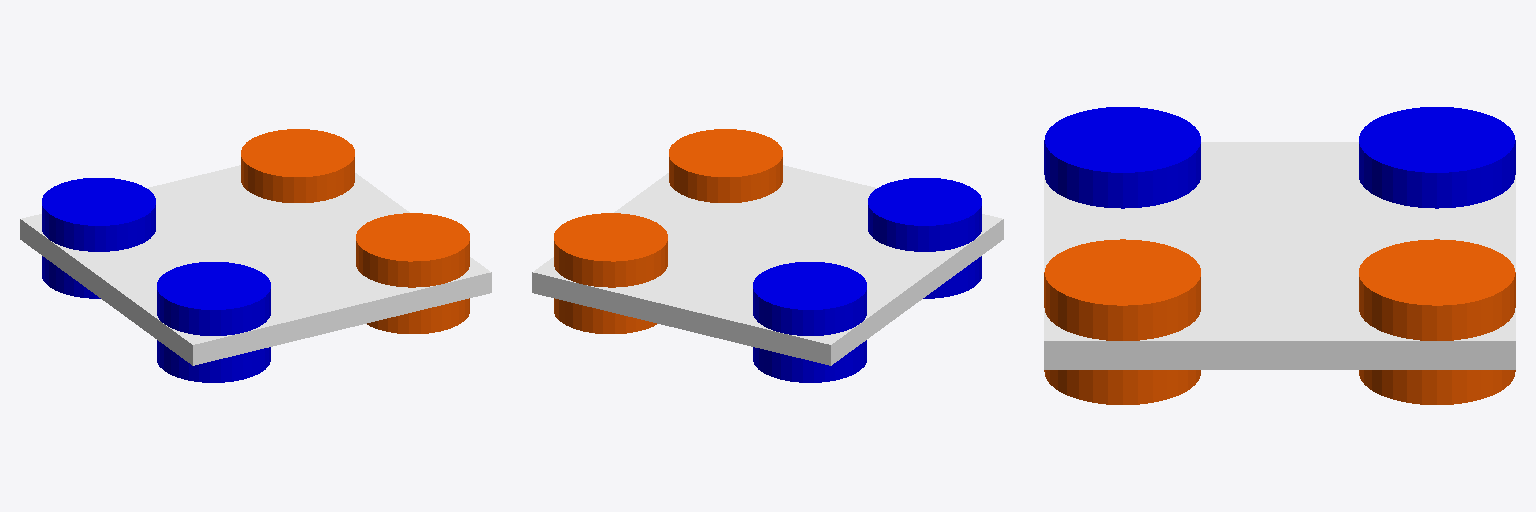
robot.urdf — quadrotor:
<?xml version="1.0"?>
<robot name="quadrotor">
  <link name="base_link">
    <visual>
      <origin xyz="0 0 0.0"/>
      <geometry>
        <box size="0.3 0.3 0.02"/>
      </geometry>
      <material name="White">
        <color rgba="1 1 1 1.0"/>
      </material>
    </visual>
    <collision>
      <origin xyz="0 0 0"/>
      <geometry>
        <box size="0.01 0.01 0.01"/>
      </geometry>
    </collision>
    <inertial>
      <mass value="1.2"/>
      <inertia ixx="0.013" ixy="0.0" ixz="0.0" iyy="0.014" iyz="0.0" izz="0.013"/>
    </inertial>
  </link>
  <link name="front_left_prop">
    <visual>
      <origin xyz="0 0 0"/>
      <geometry>
        <cylinder radius="0.05" length="0.07"/>
        <!-- <box size="0.1 0.1 0.07"/> -->
      </geometry>
      <material name="Orange">
        <color rgba="1 0.423 0.03921568627 1.0"/>
      </material>
    </visual>
    <inertial>
      <mass value="0.01"/>
      <inertia ixx="0.000001" ixy="0.0" ixz="0.0" iyy="0.000001" iyz="0.0" izz="0.000001"/>
    </inertial>
  </link>
  <link name="front_right_prop">
    <visual>
      <origin xyz="0 0 0"/>
      <geometry>
      <!-- <box size="0.1 0.1 0.07"/> -->
        <cylinder radius="0.05" length="0.07"/>
      </geometry>
      <material name="Orange">
        <color rgba="1.0 0.423 0.03921568627 1.0"/>
      </material>
    </visual>
    <inertial>
      <mass value="0.01"/>
      <inertia ixx="0.000001" ixy="0.0" ixz="0.0" iyy="0.000001" iyz="0.0" izz="0.000001"/>
    </inertial>
  </link>
  <link name="back_left_prop">
    <visual>
      <origin xyz="0 0 0"/>
      <geometry>
      <!-- <box size="0.1 0.1 0.07"/> -->
        <cylinder radius="0.05" length="0.07"/>
      </geometry>
      <material name="Blue">
        <color rgba="0 0 1 1.0"/>
      </material>
    </visual>
    <inertial>
      <mass value="0.01"/>
      <inertia ixx="0.000001" ixy="0.0" ixz="0.0" iyy="0.000001" iyz="0.0" izz="0.000001"/>
    </inertial>
  </link>
  <link name="back_right_prop">
    <visual>
      <origin xyz="0 0 0"/>
      <geometry>
      <!-- <box size="0.1 0.1 0.07"/> -->
        <cylinder radius="0.05" length="0.07"/>
      </geometry>
      <material name="Blue">
        <color rgba="0 0 1 1.0"/>
      </material>
    </visual>
    <inertial>
      <mass value="0.01"/>
      <inertia ixx="0.000001" ixy="0.0" ixz="0.0" iyy="0.000001" iyz="0.0" izz="0.000001"/>
    </inertial>
  </link>
  <joint name="base_link_to_front_left_prop" type="fixed" dont_collapse="true">    
    <parent link="base_link"/>    
    <child link="front_left_prop"/>    
    <origin xyz="0.100 0.100 0"/>  
  </joint>
  <joint name="base_link_to_front_right_prop" type="fixed" dont_collapse="true">    
    <parent link="base_link"/>    
    <child link="front_right_prop"/>    
    <origin xyz="0.100 -0.100 0"/>
  </joint>
  <joint name="base_link_to_back_right_prop" type="fixed" dont_collapse="true">    
    <parent link="base_link"/>    
    <child link="back_right_prop"/>    
    <origin xyz="-0.100 -0.100 0"/> 
  </joint>
  <joint name="base_link_to_back_left_prop" type="fixed" dont_collapse="true">    
    <parent link="base_link"/>    
    <child link="back_left_prop"/>    
    <origin xyz="-0.100 0.100 0"/> 
  </joint>
</robot>

--- Facts derived from the render (not from the file) ---
3 views of the same robot in one strip: view 1: azimuth 30°, elevation 25°; view 2: azimuth 150°, elevation 25°; view 3: azimuth 270°, elevation 25° (orthographic).
Model quadrotor with 5 links and 4 joints (4 fixed), rooted at base_link, posed all joints at 0.
Visible links, largest first — view 1: base_link, back_right_prop, front_right_prop, back_left_prop, front_left_prop; view 2: base_link, back_left_prop, front_left_prop, back_right_prop, front_right_prop; view 3: base_link, front_left_prop, front_right_prop, back_left_prop, back_right_prop.
Link boxes in pixels (<box>): base_link: <box>20,165,491,365</box>; back_right_prop: <box>157,262,270,382</box>; front_right_prop: <box>356,213,469,333</box>; back_left_prop: <box>42,178,155,298</box>; front_left_prop: <box>241,129,354,202</box>; base_link: <box>532,165,1003,365</box>; back_left_prop: <box>753,262,866,382</box>; front_left_prop: <box>554,213,667,333</box>; back_right_prop: <box>868,178,981,298</box>; front_right_prop: <box>669,129,782,202</box>; base_link: <box>1044,142,1515,369</box>; front_left_prop: <box>1359,239,1515,404</box>; front_right_prop: <box>1044,239,1200,404</box>; back_left_prop: <box>1359,107,1515,208</box>; back_right_prop: <box>1044,107,1200,208</box>.
Bounding box of the posed robot: 0.3 × 0.3 × 0.07 m (x, y, z).
Geometry: primitives only (box / cylinder / sphere), no mesh files.